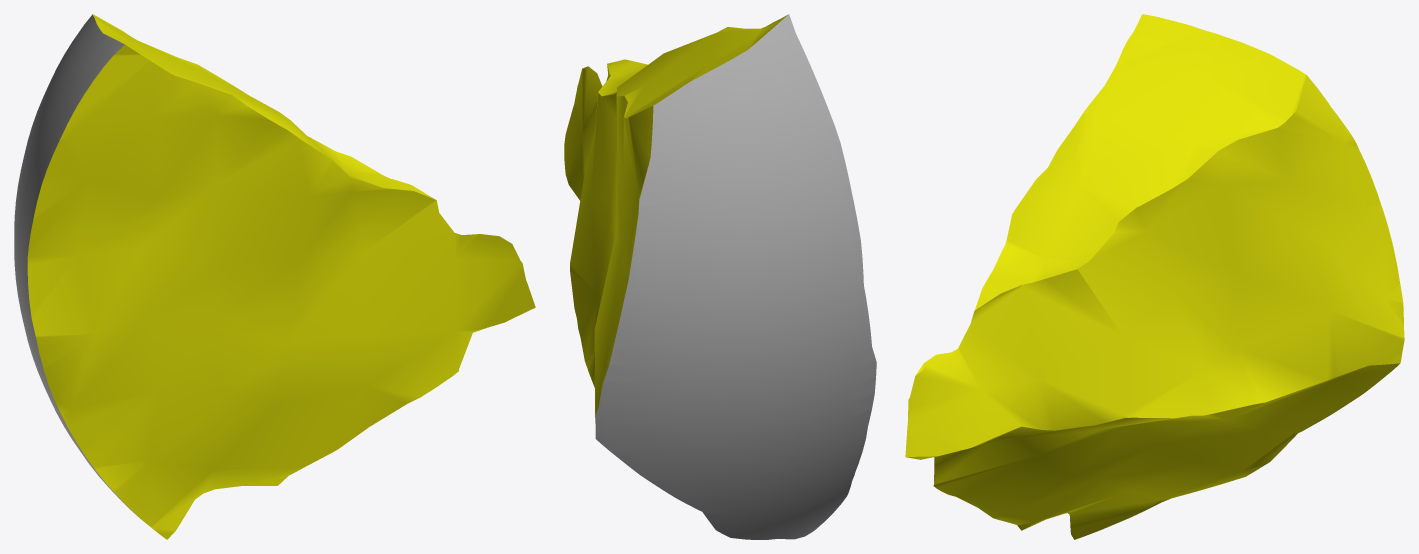
Rendered from moon_shard_10.fbx.
The picture shows the model from 3 angles, left to right: view 1: azimuth 30°, elevation 25°; view 2: azimuth 150°, elevation 25°; view 3: azimuth 270°, elevation 25°; orthographic projection. The views are drawn at different scales.
Visible parts, largest first — view 1: shard10; view 2: shard10; view 3: shard10.
Boxes of the visible parts, bbox=[...] form: shard10: bbox=[14, 14, 535, 539]; shard10: bbox=[564, 14, 876, 539]; shard10: bbox=[905, 14, 1404, 539].
Bounding box in the file's own units: 19.78 × 23.3 × 20.27.
